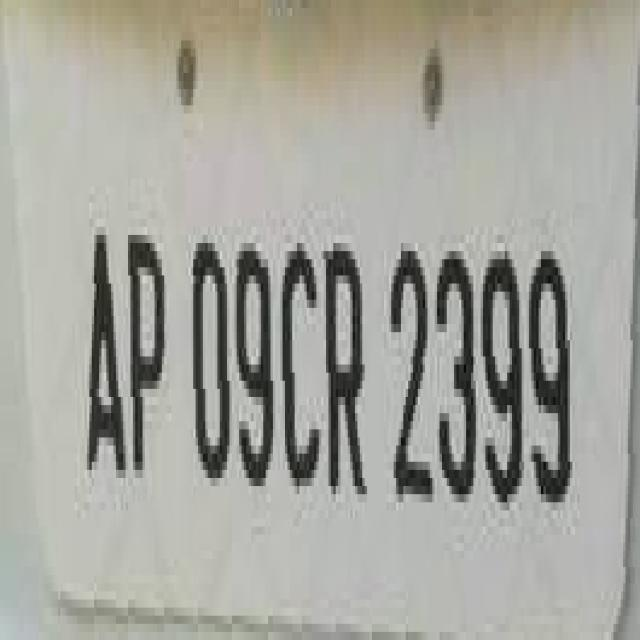plate: (14, 40, 640, 632)
